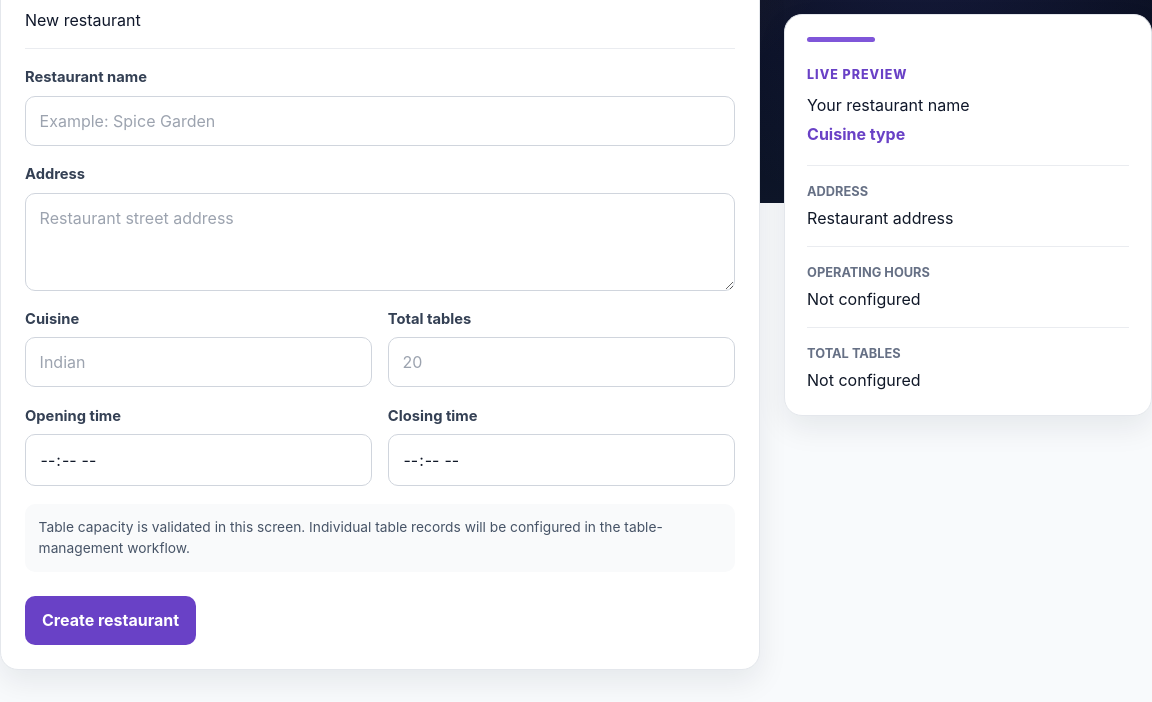
Test: OwnerPage › validates required fields before creating
This screenshot has width=1152, height=702.
(page scrolled)
Click the button "Create restaurant" at (111, 620), box left=25, top=596, right=196, bottom=645
(page scrolled)
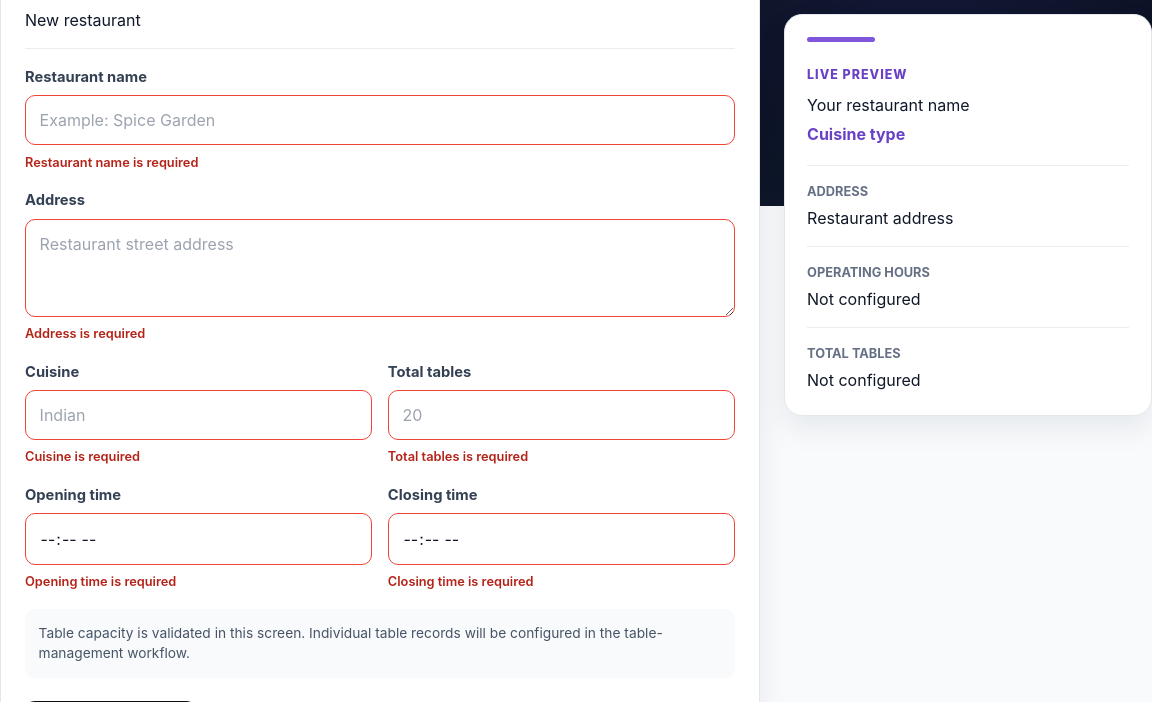
Expected: the text "Restaurant name is required" is shown, left=25, top=155, right=198, bottom=170
Expected: the text "Address is required" is shown, left=25, top=326, right=145, bottom=341
Expected: the text "Cuisine is required" is shown, left=25, top=449, right=140, bottom=464
